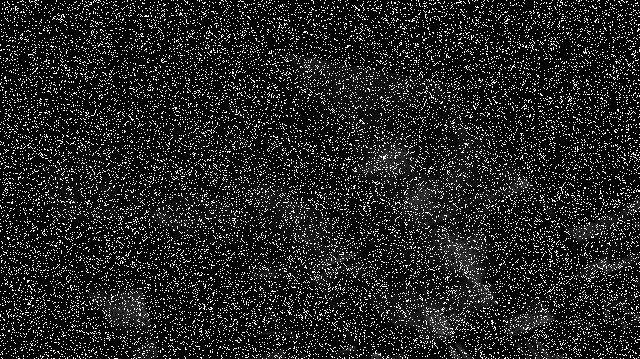pot: (496, 96, 640, 226), (136, 244, 293, 359), (265, 285, 355, 359), (500, 205, 587, 275), (499, 244, 563, 292), (339, 304, 400, 354), (490, 269, 530, 306)
